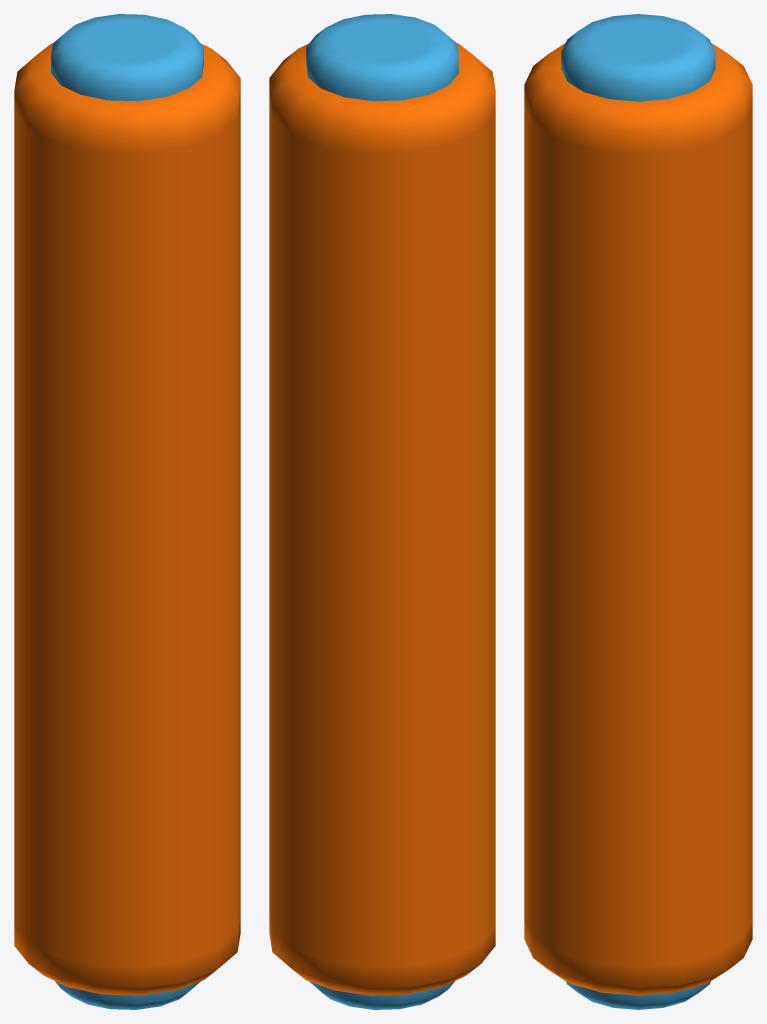
File: Pole_01.fbx
The picture shows the model from 3 angles, left to right: view 1: azimuth 30°, elevation 25°; view 2: azimuth 150°, elevation 25°; view 3: azimuth 270°, elevation 25°; orthographic projection.
Parts seen in each view (by area): view 1: Obstacle_Pole_01; view 2: Obstacle_Pole_01; view 3: Obstacle_Pole_01.
Part boxes in pixels (x1,y1,x2,y2): Obstacle_Pole_01: [14, 14, 240, 1009]; Obstacle_Pole_01: [269, 14, 495, 1009]; Obstacle_Pole_01: [524, 14, 752, 1009].
Bounding box in the file's own units: 49 × 223 × 49.
Materials: 1 (1 with a texture image).
